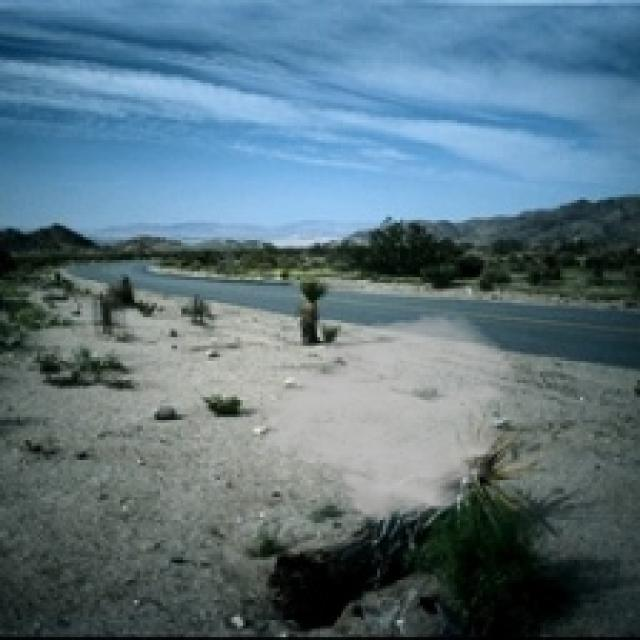smoke: (246, 311, 520, 526)
